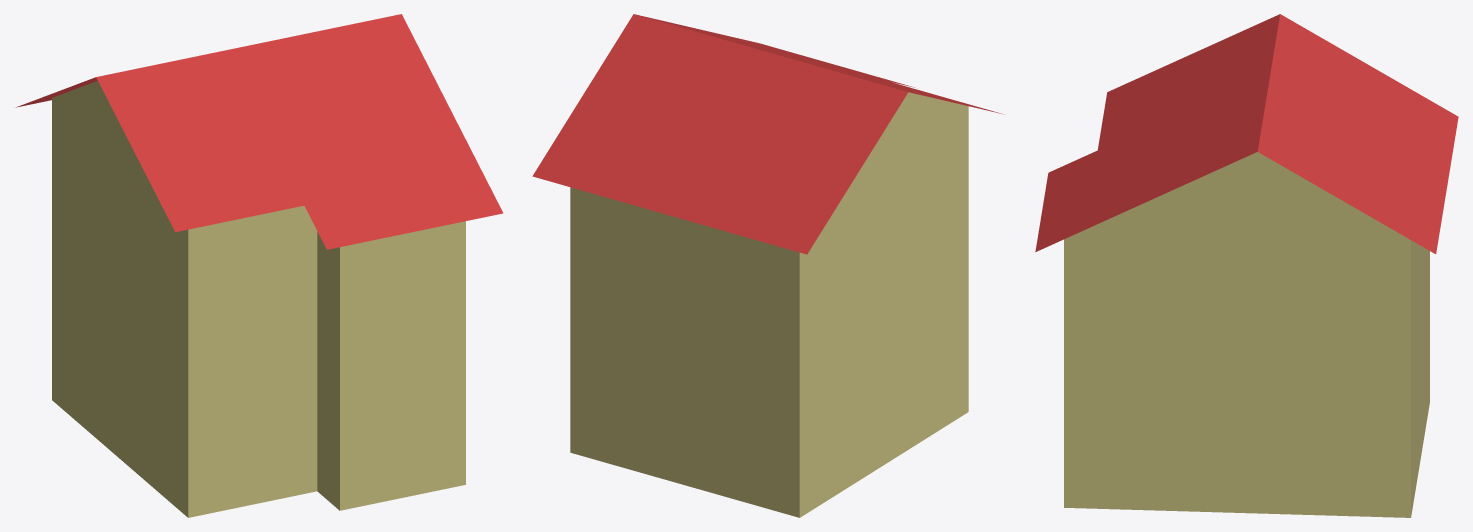
3 renders of one model, left to right at view 1: azimuth 30°, elevation 25°; view 2: azimuth 150°, elevation 25°; view 3: azimuth 270°, elevation 25°, orthographic. The views are drawn at different scales.
Parts seen in each view (by area): view 1: group_5, group_3, group_4; view 2: group_5, group_3, group_4; view 3: group_5, group_3, group_4.
Boxes of the visible parts, box(x1,y1,x2,y2) form: group_5: box(52, 81, 465, 517); group_3: box(30, 14, 465, 249); group_4: box(16, 14, 503, 249); group_5: box(570, 92, 968, 517); group_3: box(532, 15, 1003, 254); group_4: box(533, 14, 917, 253); group_5: box(1064, 152, 1429, 517); group_3: box(1048, 14, 1458, 254); group_4: box(1035, 14, 1458, 253).
Bounding box in the file's own units: 9.75 × 11.78 × 11.46.
